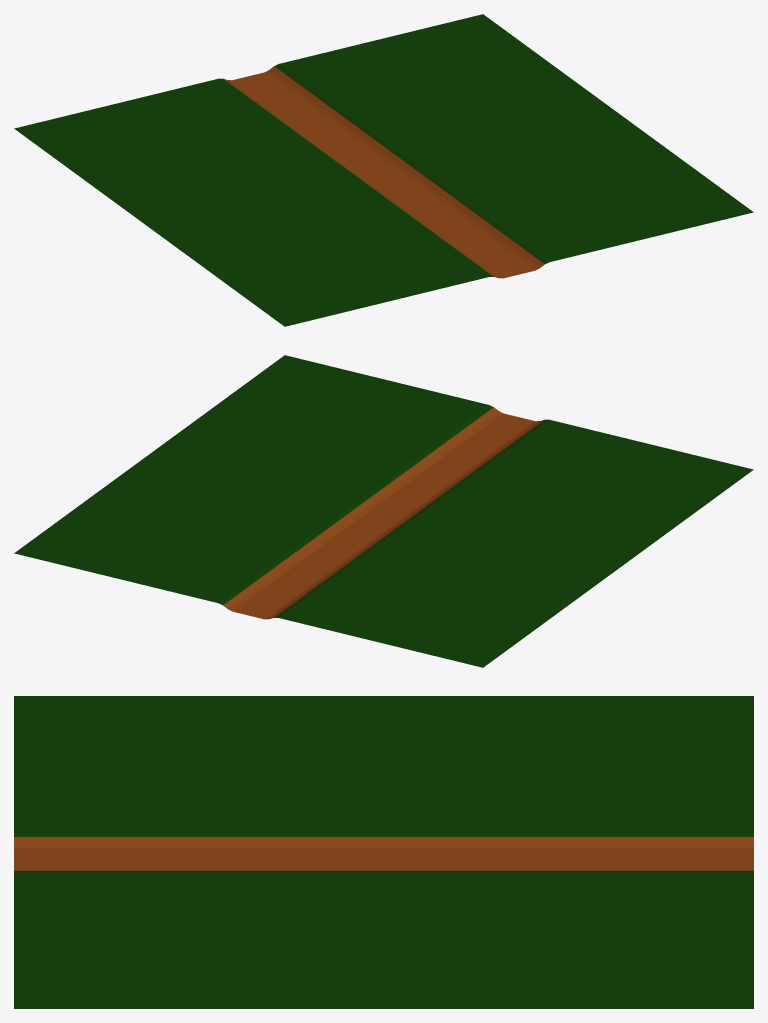
File: Terrain_Part_Plane_7.fbx
3 views of the same model, one above another, from view 1: azimuth 30°, elevation 25°; view 2: azimuth 150°, elevation 25°; view 3: azimuth 270°, elevation 25° (orthographic). The views are drawn at different scales.
Visible parts, largest first — view 1: Terrain_Part_Plane_7; view 2: Terrain_Part_Plane_7; view 3: Terrain_Part_Plane_7.
Boxes of the visible parts, box(x1,y1,x2,y2) form: Terrain_Part_Plane_7: box(14, 14, 753, 326); Terrain_Part_Plane_7: box(14, 355, 753, 667); Terrain_Part_Plane_7: box(14, 696, 753, 1008).
Bounding box in the file's own units: 2000 × 20 × 2000.
